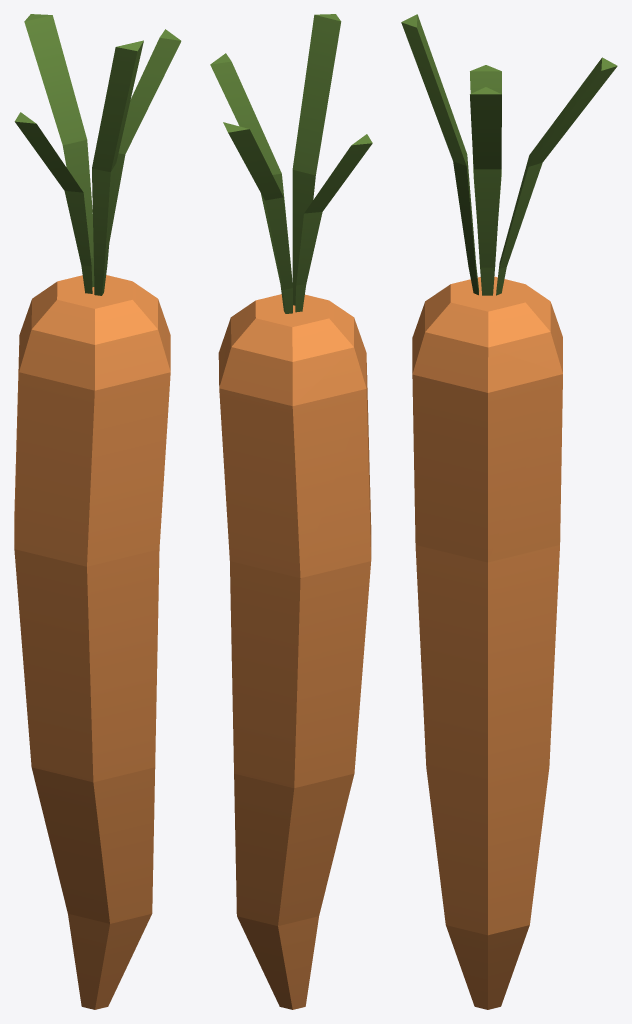
Rendered from Crop_Carrot_04.obj.
The picture shows the model from 3 angles, left to right: view 1: azimuth 30°, elevation 25°; view 2: azimuth 150°, elevation 25°; view 3: azimuth 270°, elevation 25°; orthographic projection. The views are drawn at different scales.
Parts seen in each view (by area): view 1: Crop_Carrot_04; view 2: Crop_Carrot_04; view 3: Crop_Carrot_04.
Boxes of the visible parts, x1,y1,x2,y2 form: Crop_Carrot_04: [14, 14, 181, 1009]; Crop_Carrot_04: [210, 14, 372, 1009]; Crop_Carrot_04: [401, 14, 617, 1009].
Size of the model in its own units: 0.0961 by 0.5699 by 0.1139.
1 material, 1 textured.
